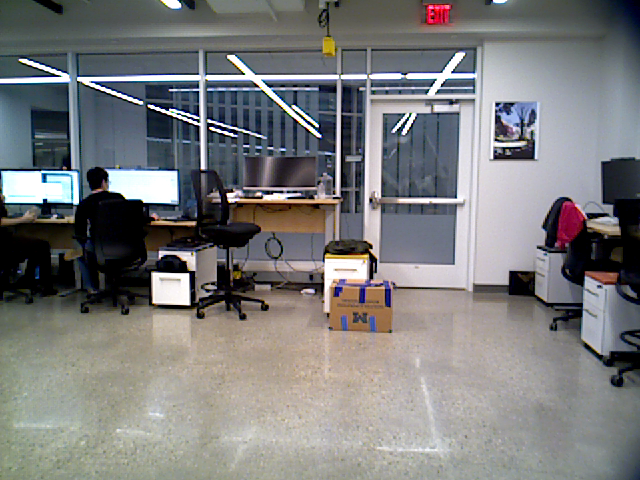painting3: (491, 100, 540, 161)
